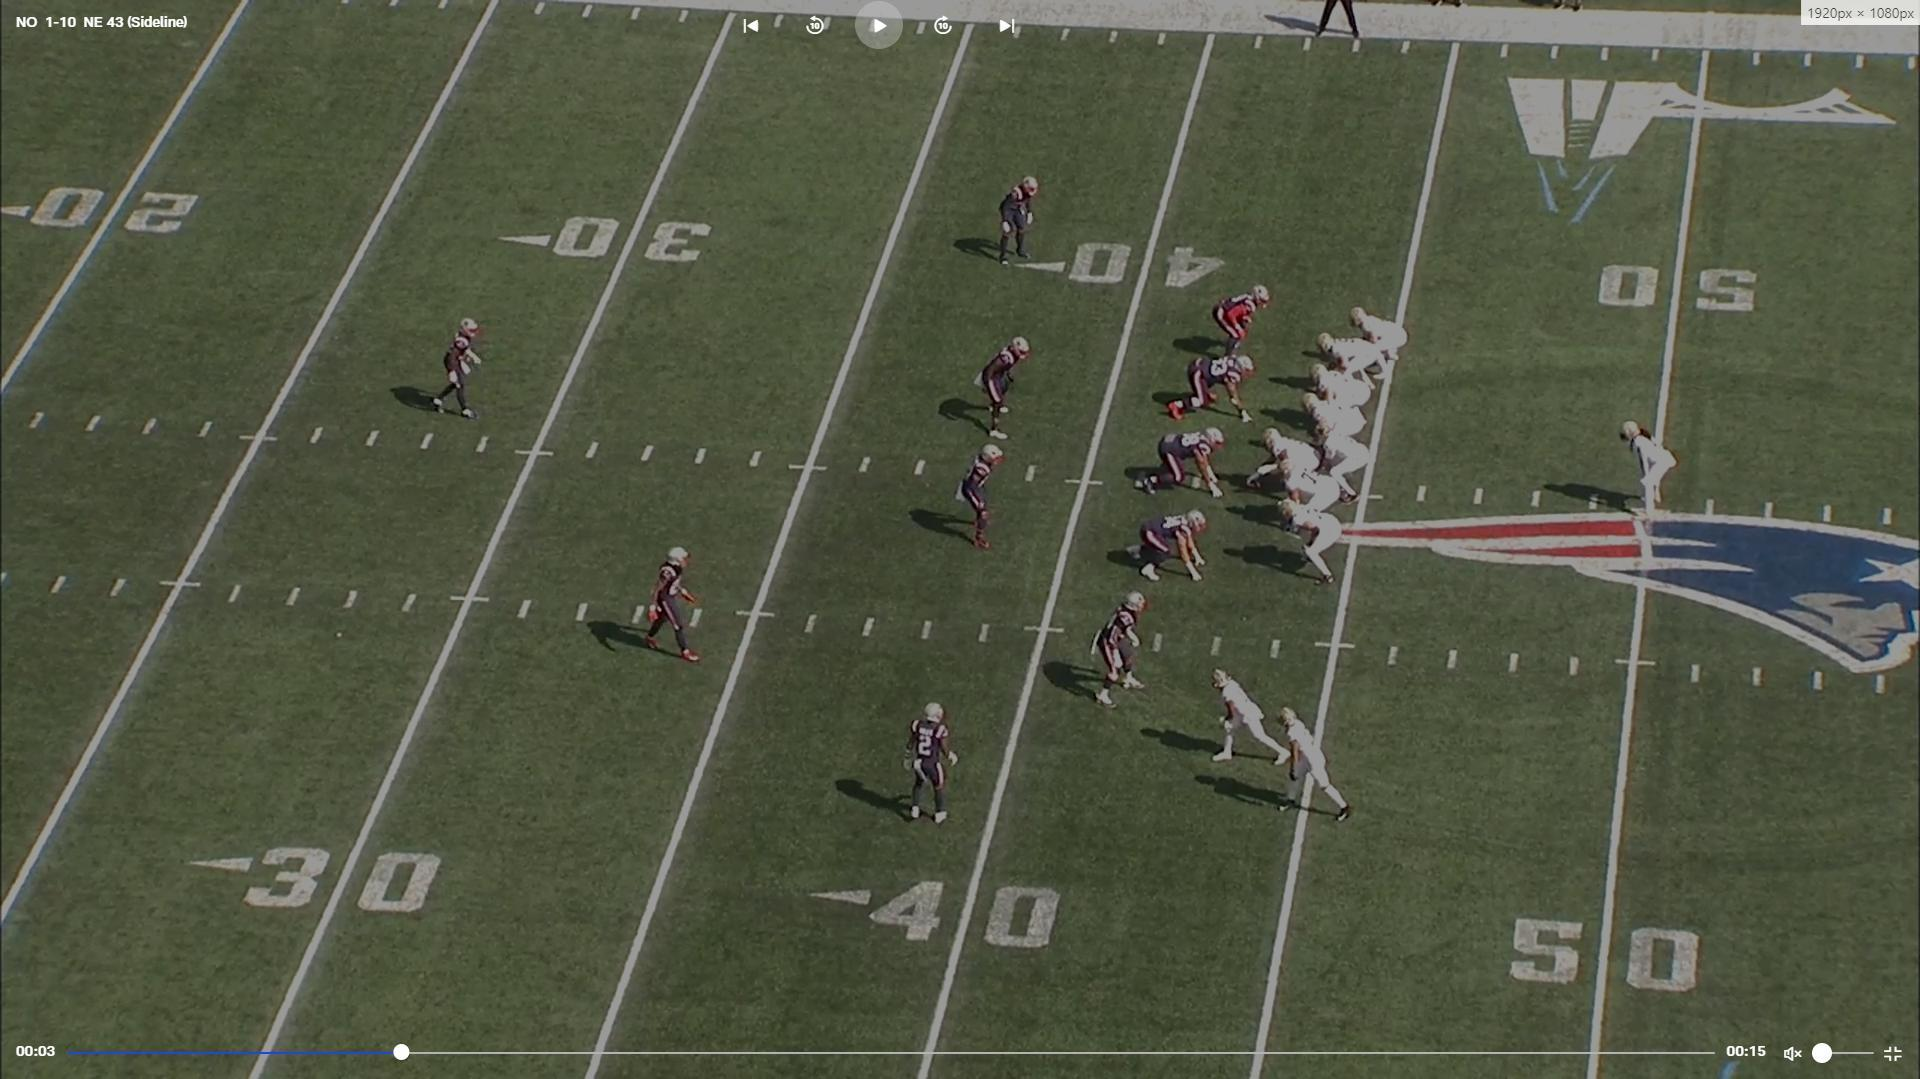defense: (1092, 591, 1154, 715), (641, 542, 700, 667), (1120, 509, 1213, 588), (906, 702, 963, 831), (1134, 429, 1229, 500), (1163, 354, 1257, 425), (980, 332, 1036, 445), (430, 314, 484, 423), (955, 442, 1006, 555), (1213, 281, 1276, 360), (1000, 174, 1043, 273)
oline: (1278, 496, 1345, 588), (1258, 430, 1325, 493), (1283, 462, 1354, 520), (1313, 361, 1381, 414), (1300, 389, 1366, 438)
qb: (1320, 416, 1377, 520)
ref: (1311, 0, 1367, 40)
skill: (1278, 707, 1360, 828), (1209, 669, 1291, 772), (1622, 418, 1684, 524), (1350, 303, 1410, 377), (1321, 334, 1386, 392)
